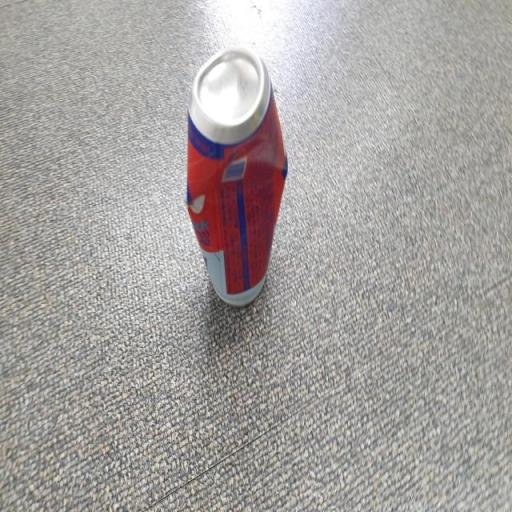metal: (172, 26, 295, 336)
